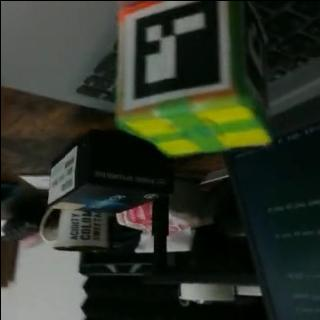armor: (124, 3, 228, 107)
robot: (114, 0, 272, 157)
